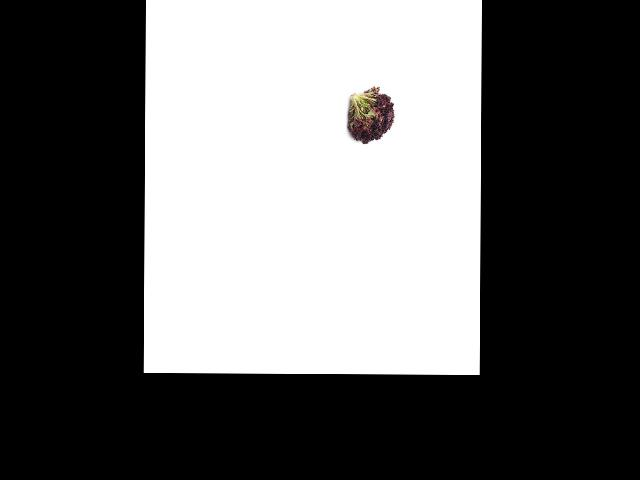lettuce: (344, 89, 396, 146)
